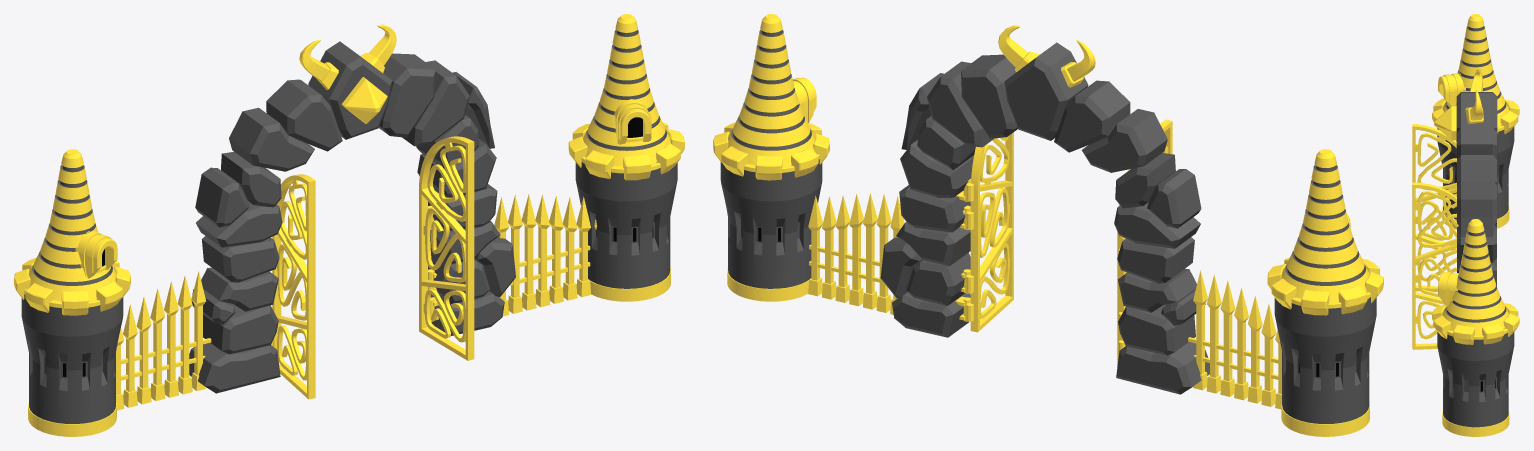
The model's file is mage_gate_front.fbx.
3 views of the same model, side by side, from view 1: azimuth 30°, elevation 25°; view 2: azimuth 150°, elevation 25°; view 3: azimuth 270°, elevation 25° (orthographic). The views are drawn at different scales.
Visible parts, largest first — view 1: stone_gate, minitowers, fences, gate_hinged1, gate_hinged2, deets; view 2: stone_gate, minitowers, fences, gate_hinged1, deets, gate_hinged2; view 3: minitowers, stone_gate, gate_hinged1, gate_hinged2, deets.
Boxes of the visible parts, x1,y1,x2,y2 form: stone_gate: [189, 41, 515, 393]; minitowers: [14, 14, 684, 436]; fences: [116, 194, 596, 410]; gate_hinged1: [419, 136, 474, 360]; gate_hinged2: [271, 174, 315, 399]; deets: [299, 24, 396, 123]; stone_gate: [880, 42, 1209, 394]; minitowers: [713, 14, 1383, 436]; fences: [808, 193, 1281, 409]; gate_hinged1: [966, 132, 1013, 332]; deets: [998, 25, 1095, 87]; gate_hinged2: [1117, 119, 1172, 366]; minitowers: [1432, 14, 1519, 436]; stone_gate: [1456, 92, 1497, 285]; gate_hinged1: [1412, 182, 1456, 349]; gate_hinged2: [1412, 124, 1458, 291]; deets: [1434, 67, 1483, 140].
Bounding box in the file's own units: 28.12 × 13.11 × 5.27.
